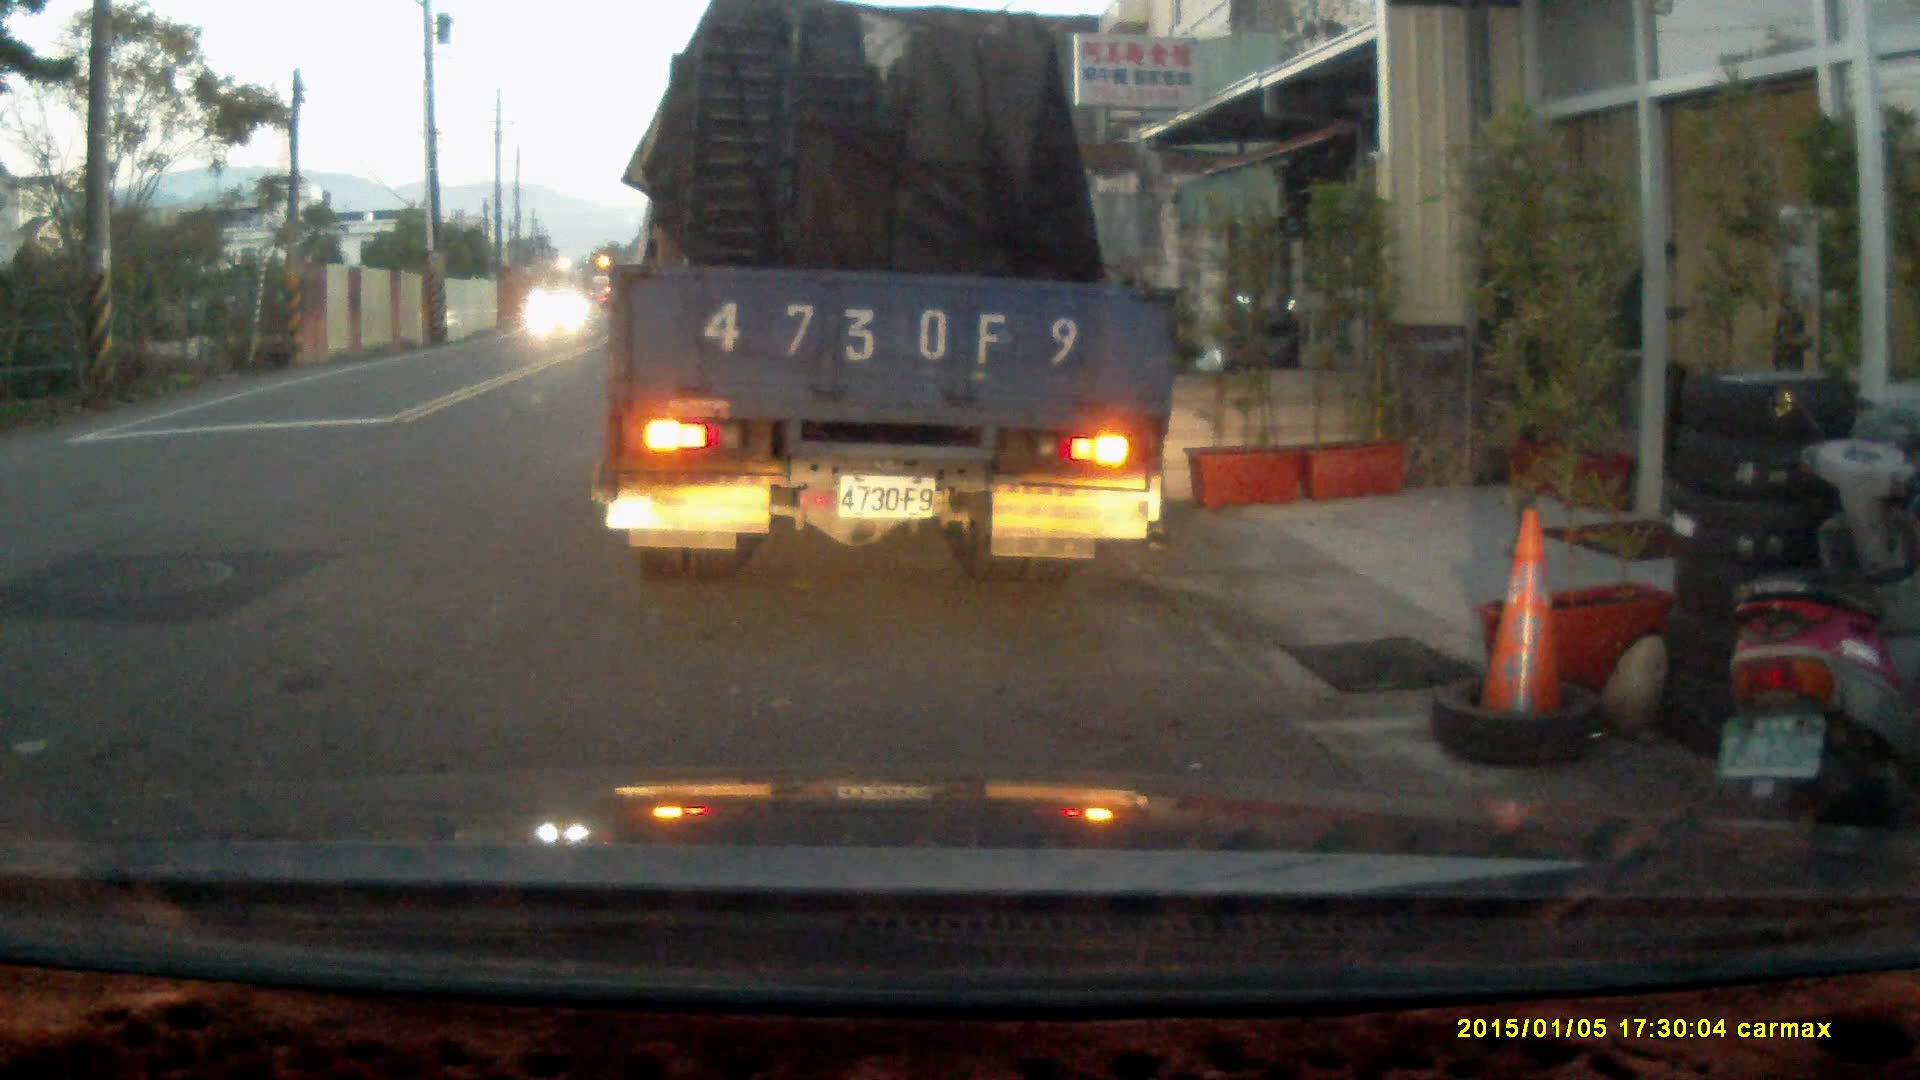pedestrian: (1614, 233, 1686, 478), (1766, 231, 1832, 447)
vehicle: (605, 23, 1188, 572)
